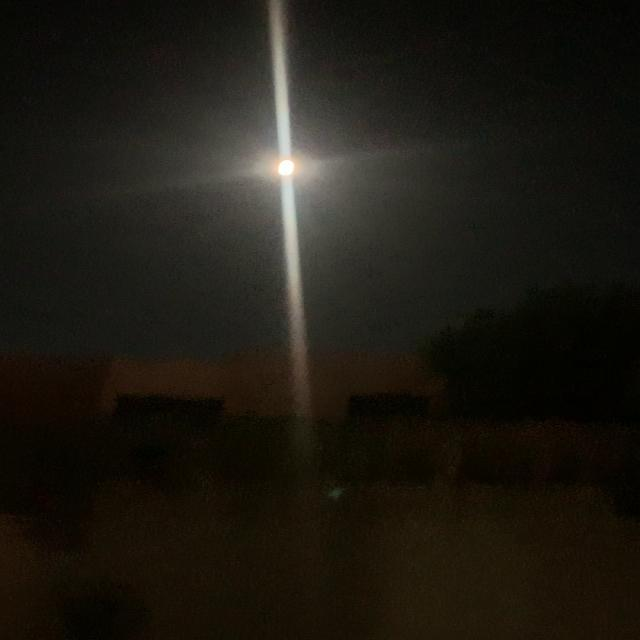moon: (252, 152, 314, 185)
